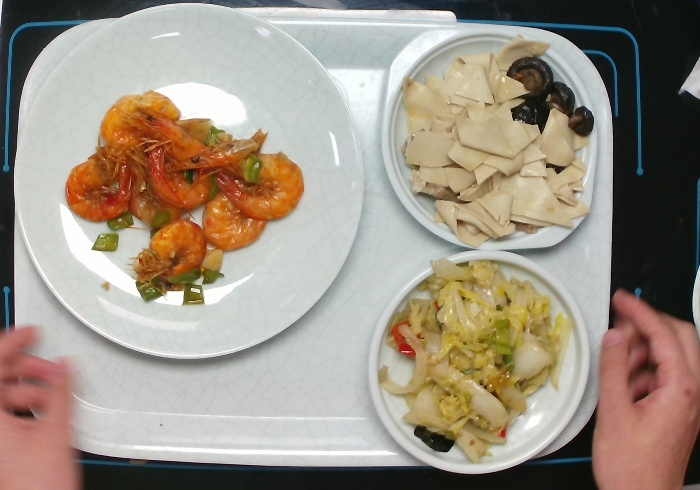JYsf-Da_Yuan_Pan: (12, 6, 364, 361)
JYsf-Shuang_Er_Pan: (380, 23, 604, 248)
JYsf-Xiao_Yuan_Pan: (364, 246, 591, 476)
